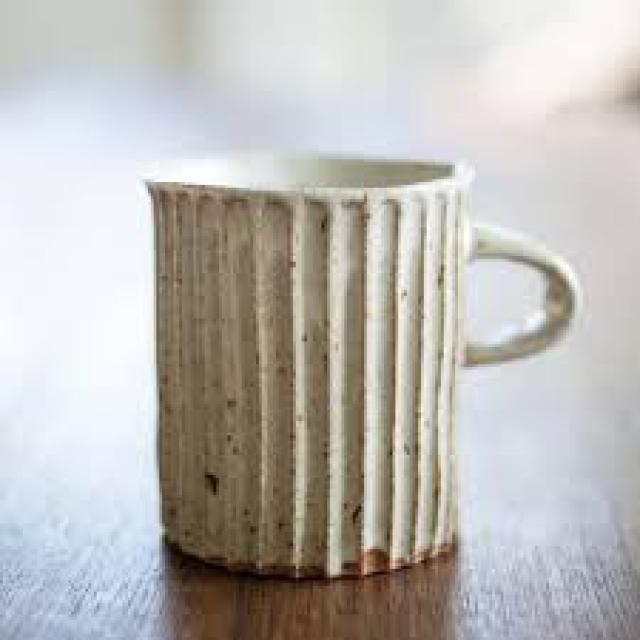taza: (143, 152, 585, 578)
